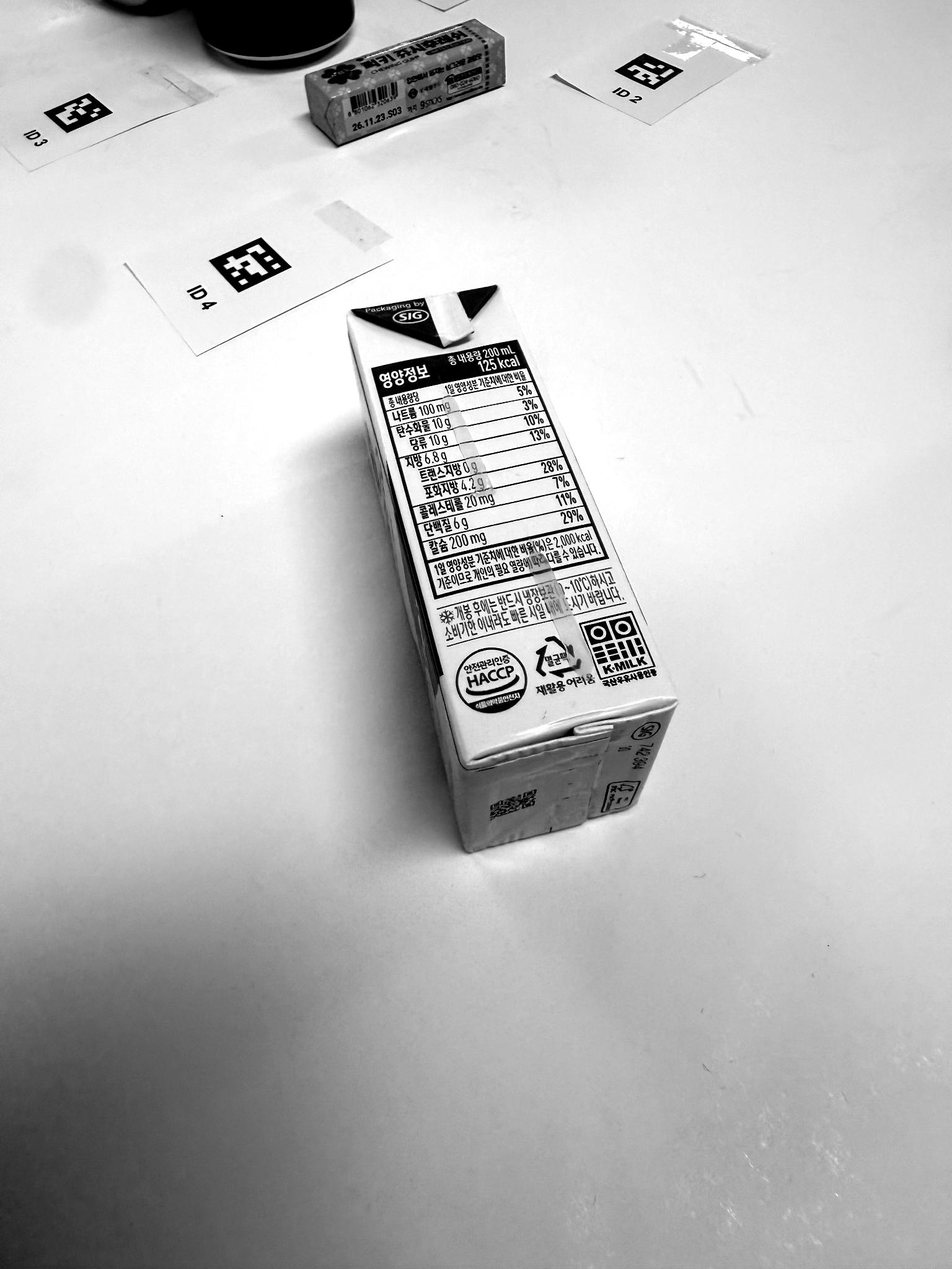milk_green: (348, 285, 678, 852)
